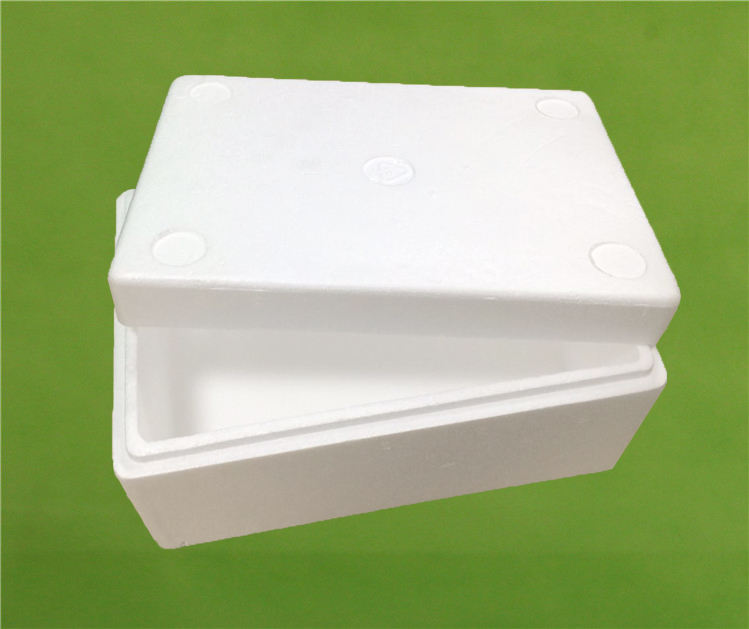Boxes: (109, 76, 679, 548)
